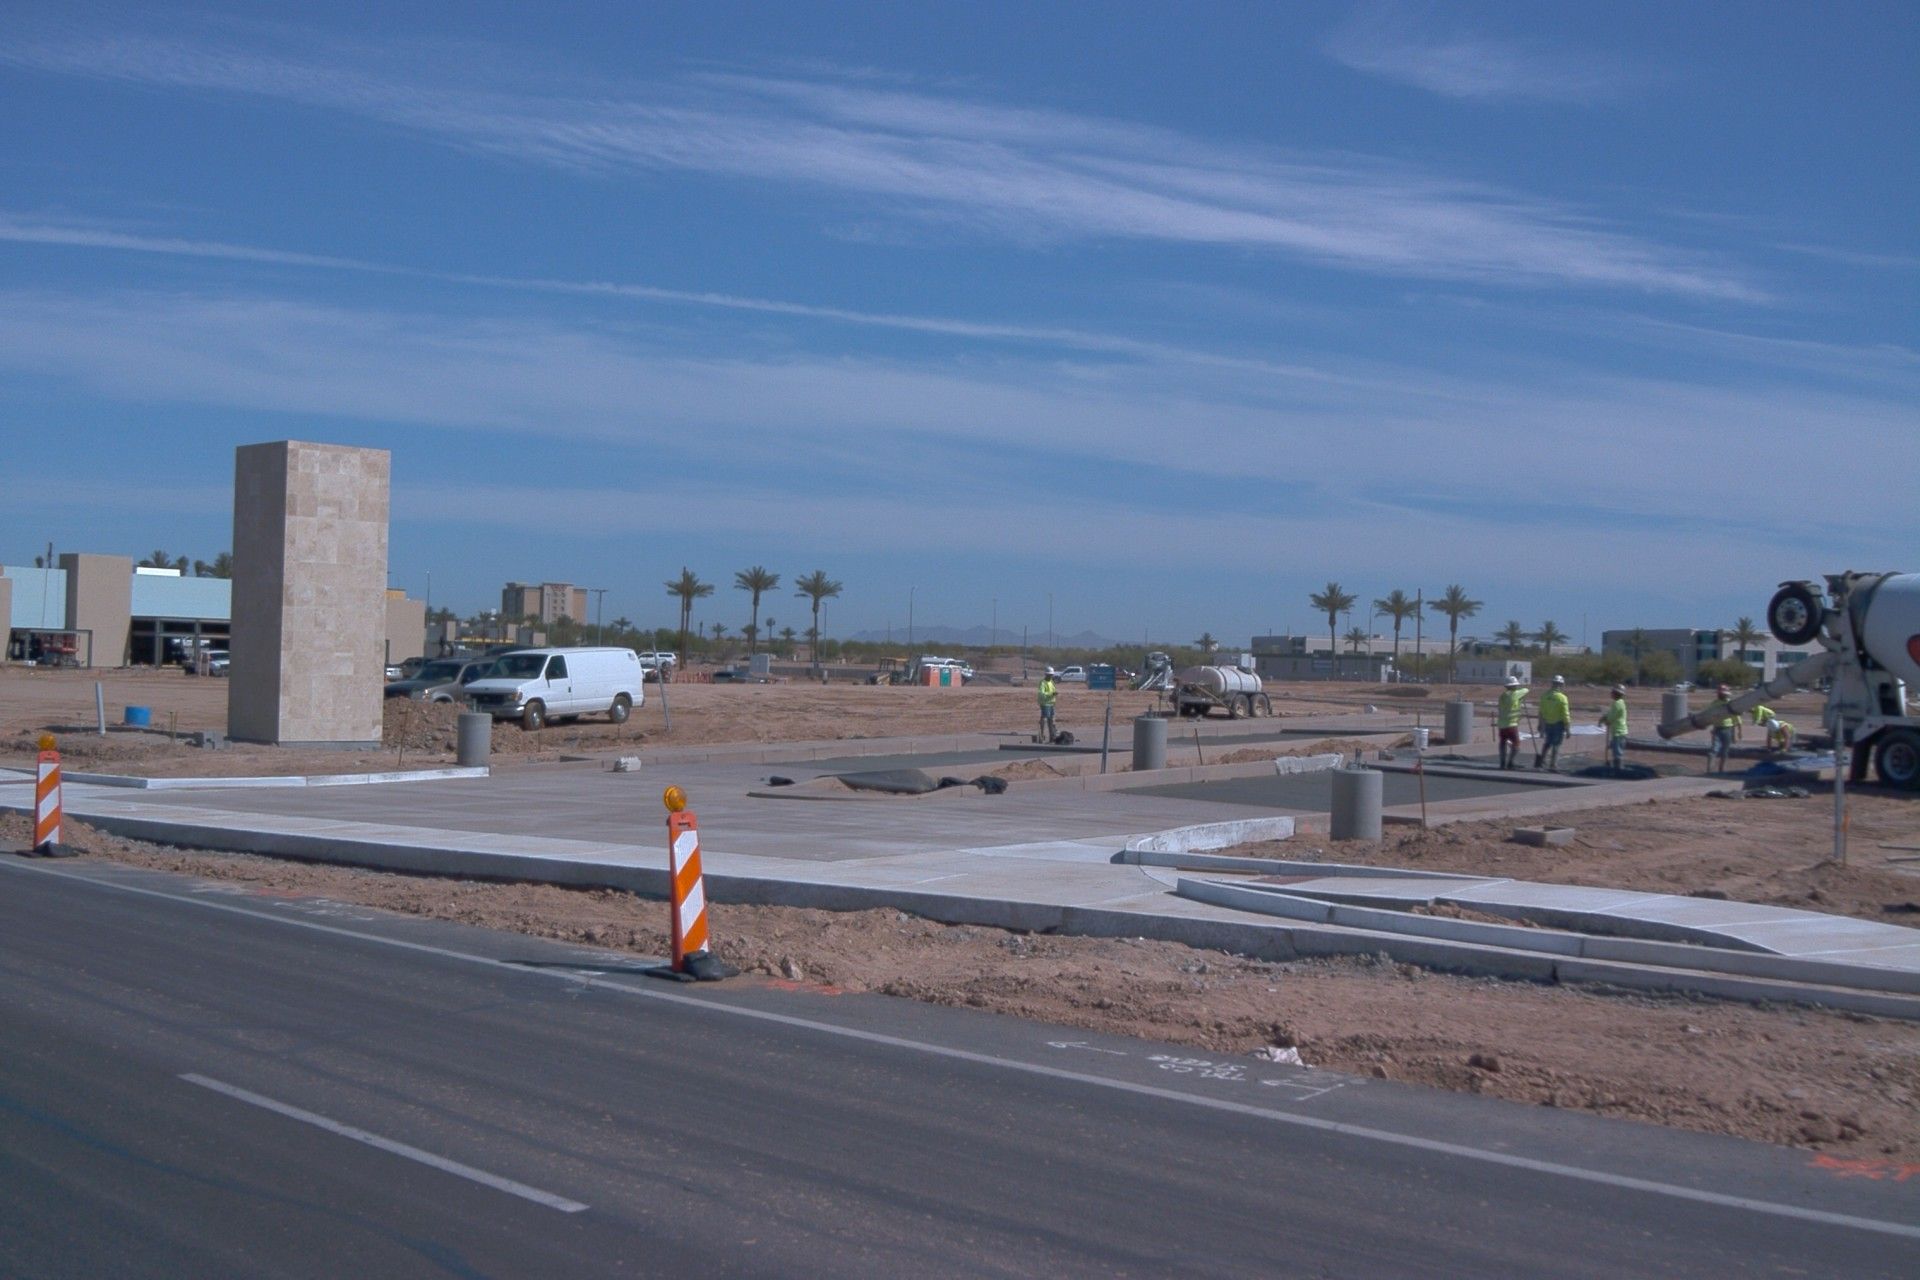TYPE_PEDESTRIAN: (1536, 672, 1575, 775), (1700, 684, 1743, 777), (1497, 676, 1530, 772), (1598, 682, 1631, 777), (1035, 667, 1061, 747), (1766, 718, 1799, 756), (1751, 705, 1778, 724), (1126, 675, 1137, 691), (1022, 664, 1032, 680)
TYPE_VEHICLE: (1657, 570, 1920, 793), (462, 646, 645, 732), (384, 656, 502, 712), (1155, 664, 1269, 721), (864, 648, 929, 687), (1131, 650, 1174, 694), (919, 656, 975, 687), (182, 648, 231, 680), (638, 649, 680, 669), (399, 653, 433, 677), (639, 662, 673, 685), (708, 675, 772, 686), (1049, 666, 1089, 683), (170, 635, 213, 649), (1114, 664, 1138, 683), (383, 661, 403, 683), (450, 641, 464, 648)
